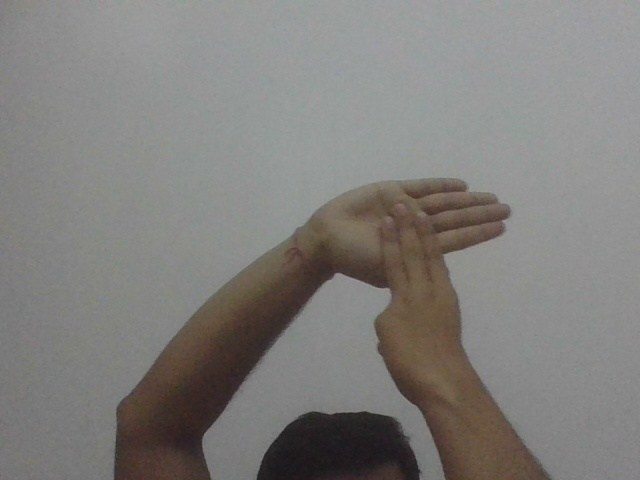M: (318, 175, 514, 321)
